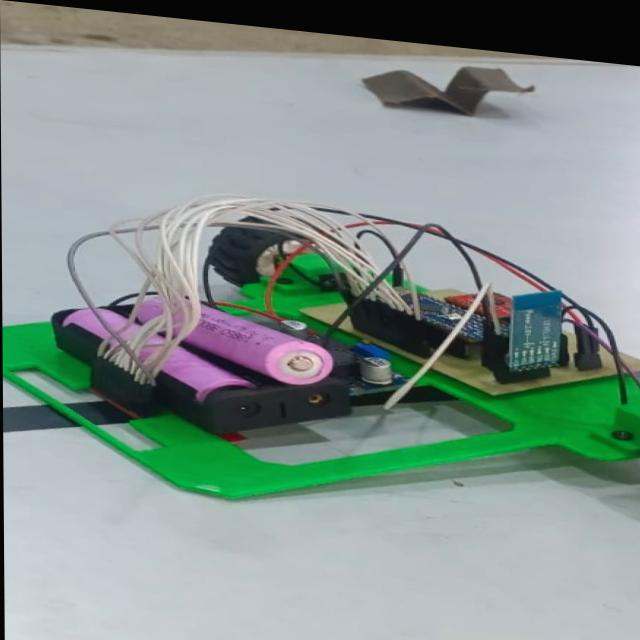vehicle: (1, 169, 640, 526)
